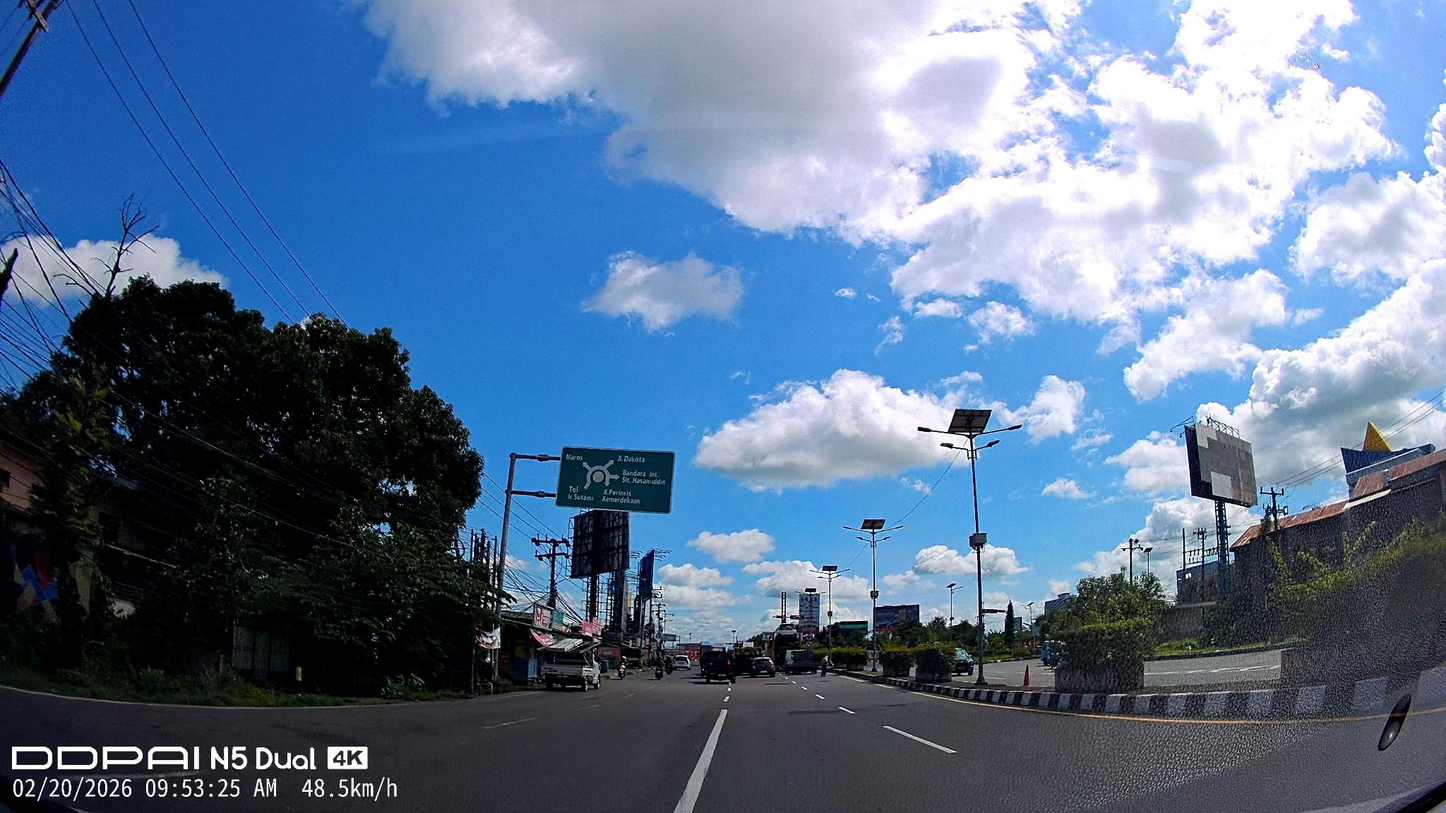rambu_teks: (554, 445, 676, 515)
